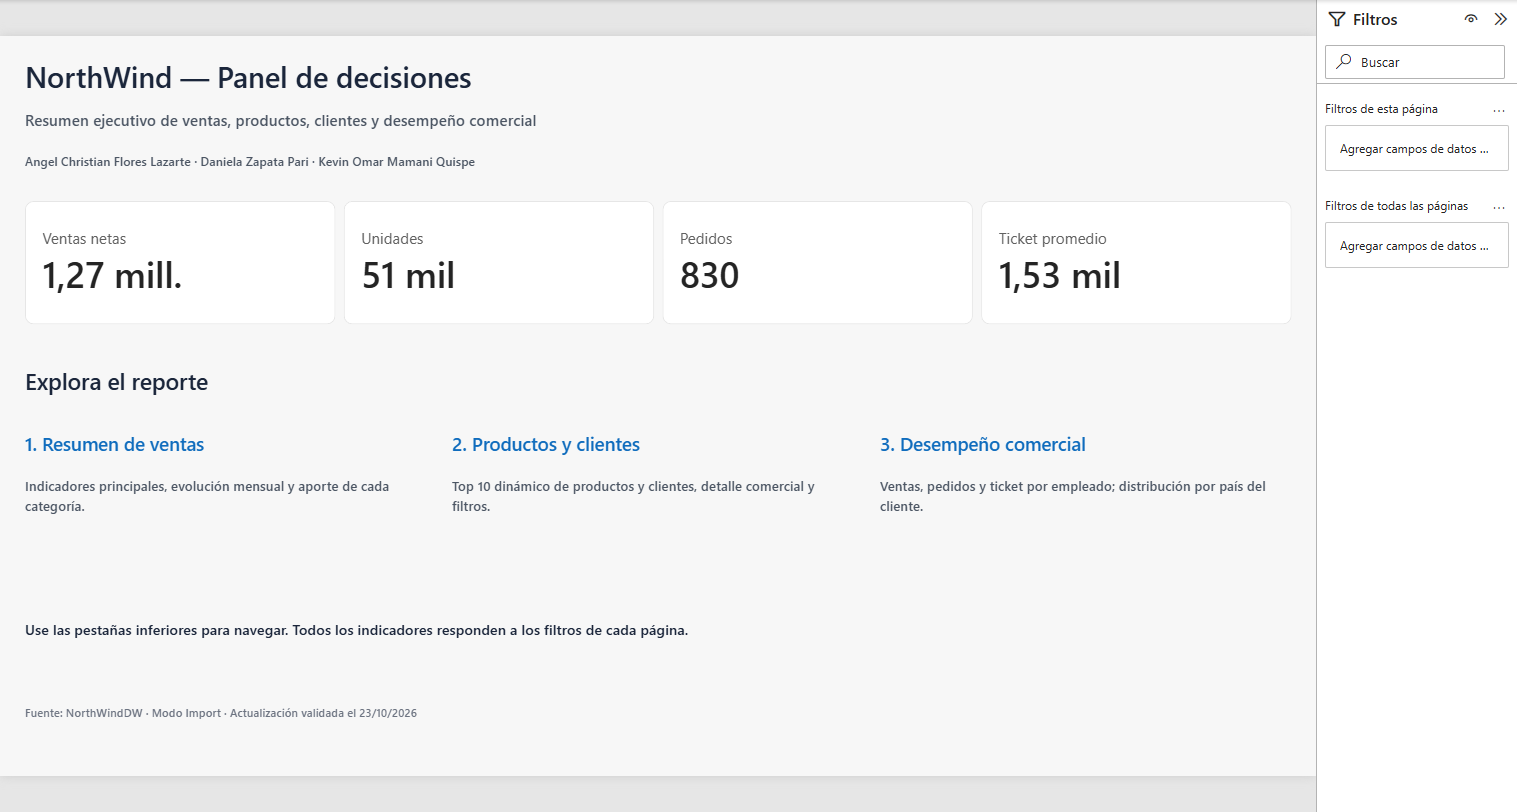

The page's visual inventory and layout, read from the dashboard file:
{"tool":"powerbi","page":{"name":"Inicio","canvas":[1280,720],"ordinal":0},"visuals":[{"type":"textbox","box":[24,20,760,52],"z":1},{"type":"textbox","box":[24,72,1000,36],"z":2},{"type":"textbox","box":[24,112,1120,32],"z":3},{"type":"cardVisual","fields":{"Data":["FactSales.Ventas netas","FactSales.Unidades","FactSales.Pedidos","FactSales.Ticket promedio"]},"box":[24,160,1232,120],"z":4},{"type":"textbox","box":[24,320,560,44],"z":5},{"type":"textbox","box":[24,384,360,40],"z":6},{"type":"textbox","box":[24,428,360,72],"z":7},{"type":"textbox","box":[440,384,360,40],"z":8},{"type":"textbox","box":[440,428,360,72],"z":9},{"type":"textbox","box":[856,384,376,40],"z":10},{"type":"textbox","box":[856,428,376,72],"z":11},{"type":"textbox","box":[24,568,1208,56],"z":12},{"type":"textbox","box":[24,648,1208,32],"z":13}]}

Visuals, with their boxes on the page's 1280x720 design canvas (x1, y1, x2, y2). These are canvas units, not pixel positions in the 1517x812 screenshot, which may show the page scaled, cropped or inside an application window:
textbox: <bbox>24, 20, 784, 72</bbox>
textbox: <bbox>24, 72, 1024, 108</bbox>
textbox: <bbox>24, 112, 1144, 144</bbox>
cardVisual - FactSales.Ventas netas x FactSales.Unidades: <bbox>24, 160, 1256, 280</bbox>
textbox: <bbox>24, 320, 584, 364</bbox>
textbox: <bbox>24, 384, 384, 424</bbox>
textbox: <bbox>24, 428, 384, 500</bbox>
textbox: <bbox>440, 384, 800, 424</bbox>
textbox: <bbox>440, 428, 800, 500</bbox>
textbox: <bbox>856, 384, 1232, 424</bbox>
textbox: <bbox>856, 428, 1232, 500</bbox>
textbox: <bbox>24, 568, 1232, 624</bbox>
textbox: <bbox>24, 648, 1232, 680</bbox>
